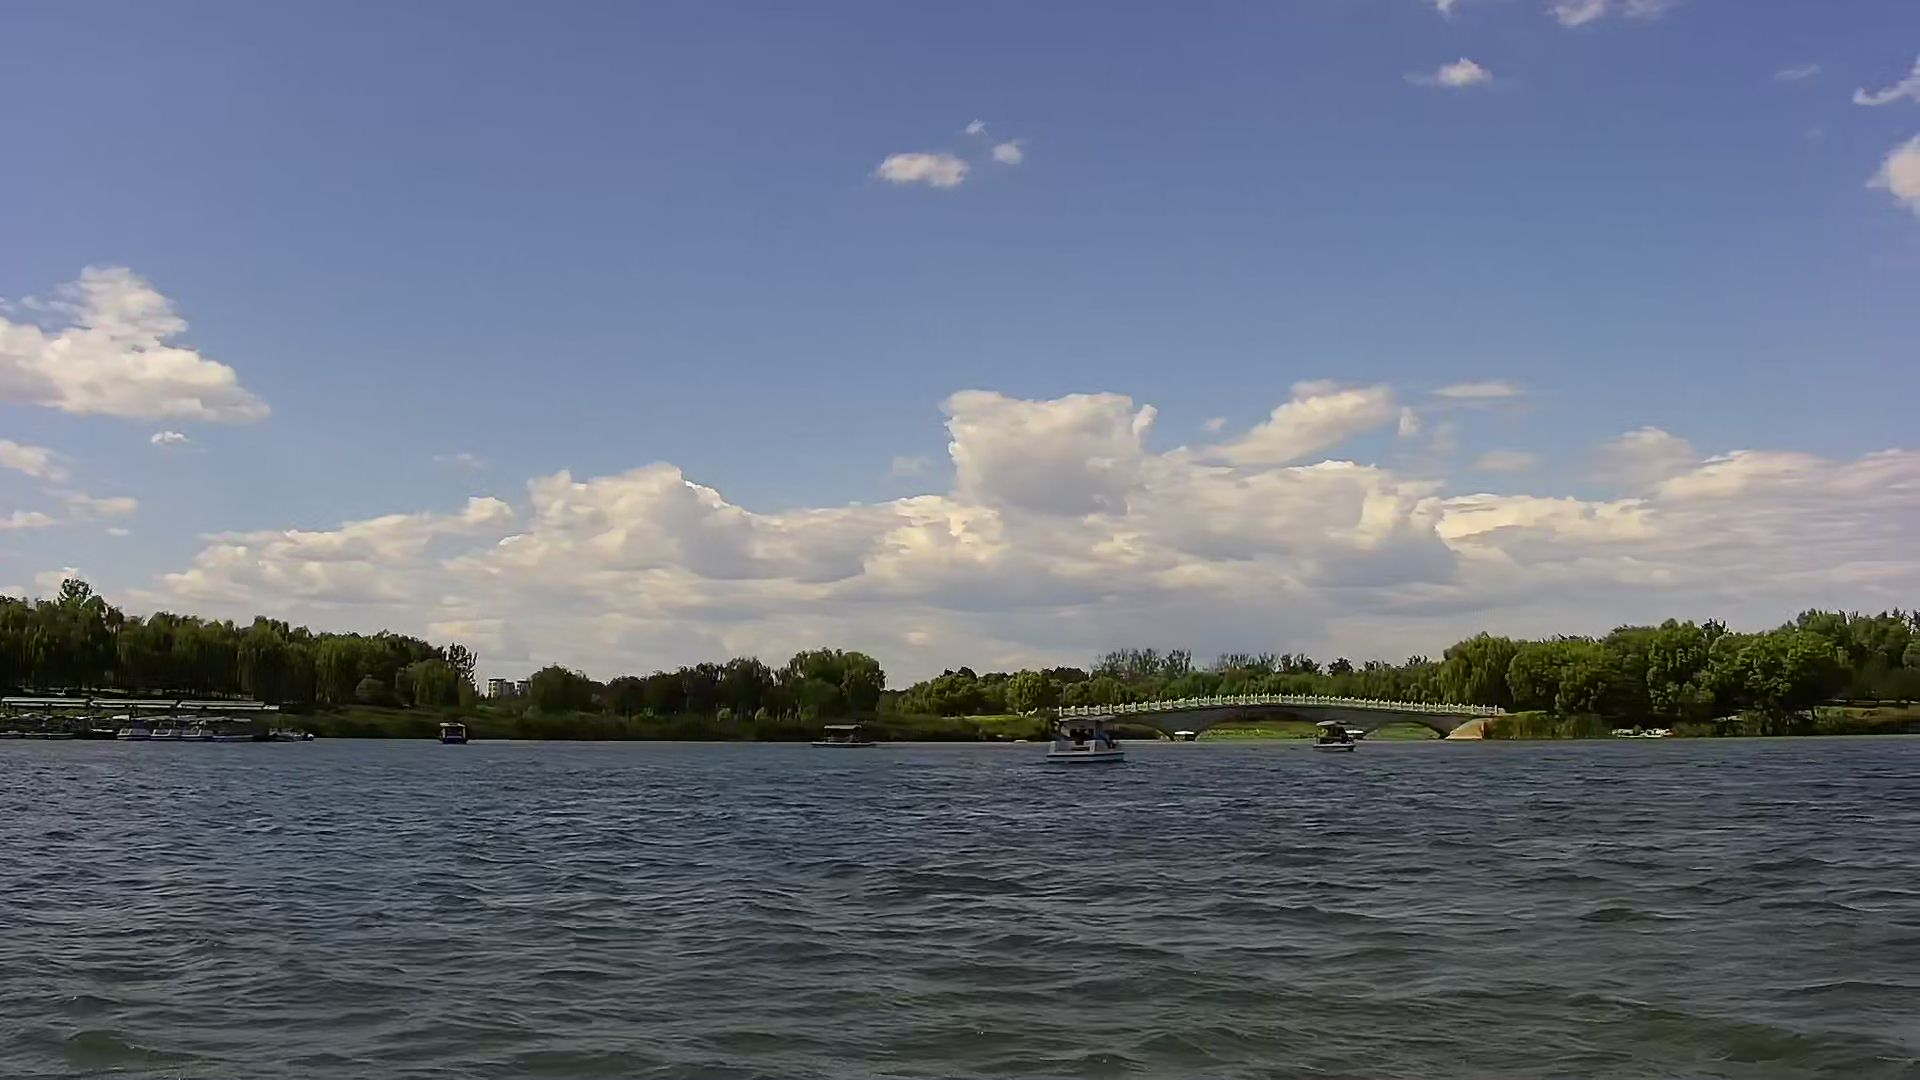boat: (1036, 712, 1125, 762), (1305, 713, 1371, 762), (808, 720, 874, 754), (431, 713, 473, 750)
bridge: (1015, 690, 1524, 731)
